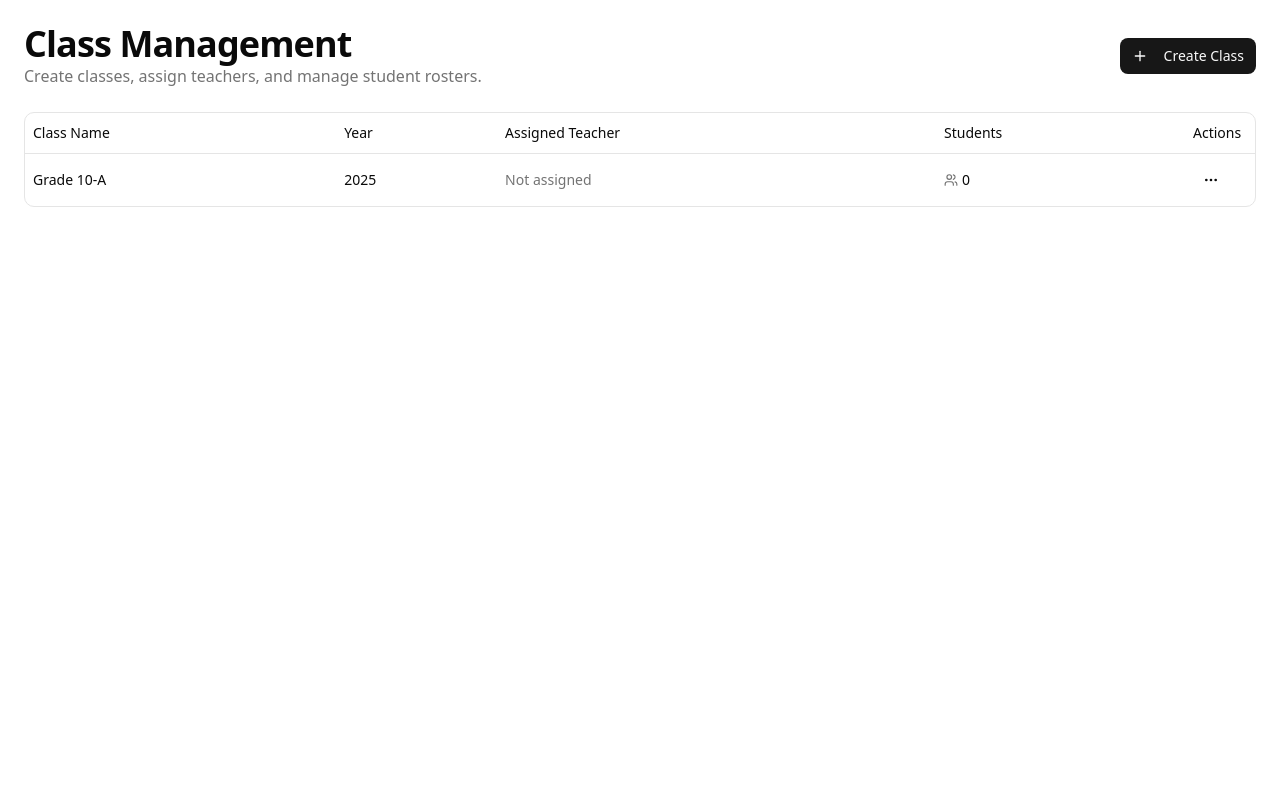
Subject Teachers modal — subjects fetch fails › shows an inline failure message while the assignments list still renders
The width and height of the screenshot is (1280, 800).
Expected: the text "Grade 10-A" is shown, x1=25 y1=153 x2=336 y2=206
Click the button named "open menu" at [1211, 180], box x1=1193 y1=162 x2=1229 y2=198
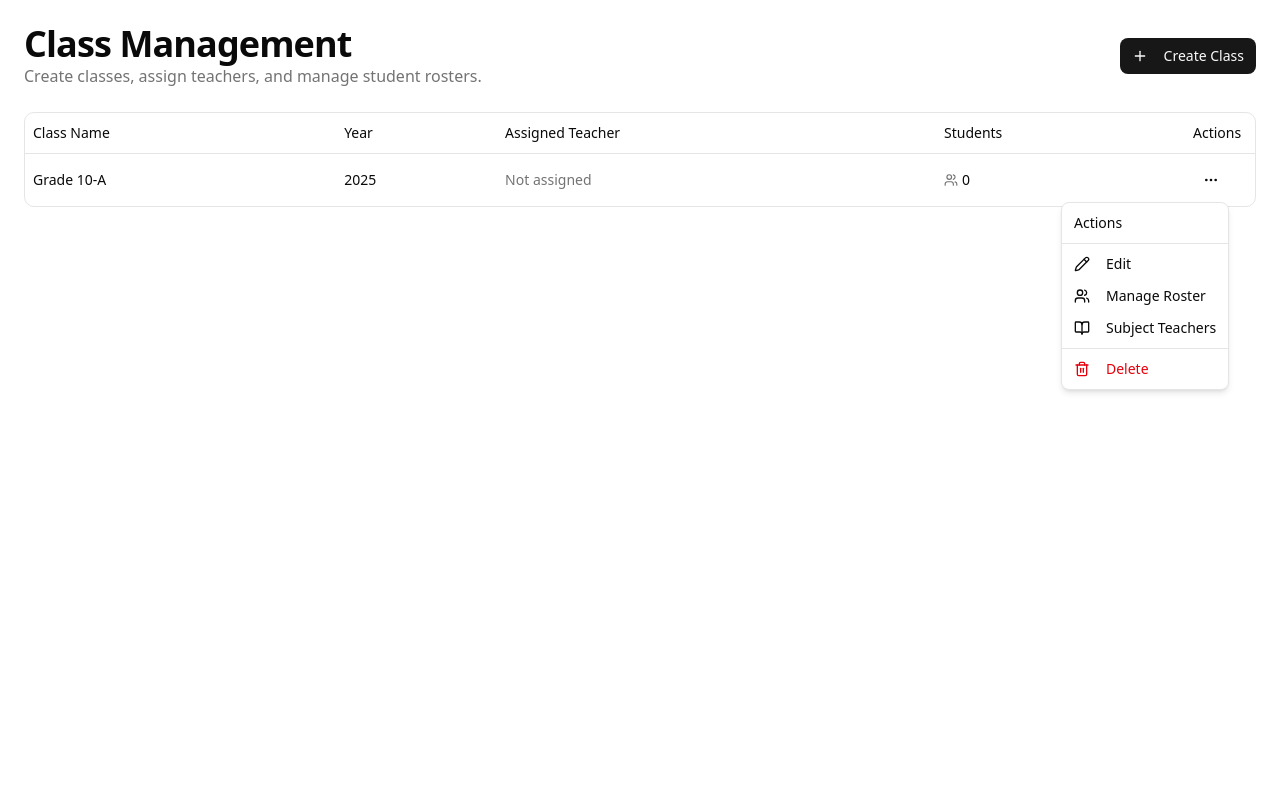
Click the menu item "Subject Teachers" at [1145, 328], box x1=1074 y1=318 x2=1216 y2=337
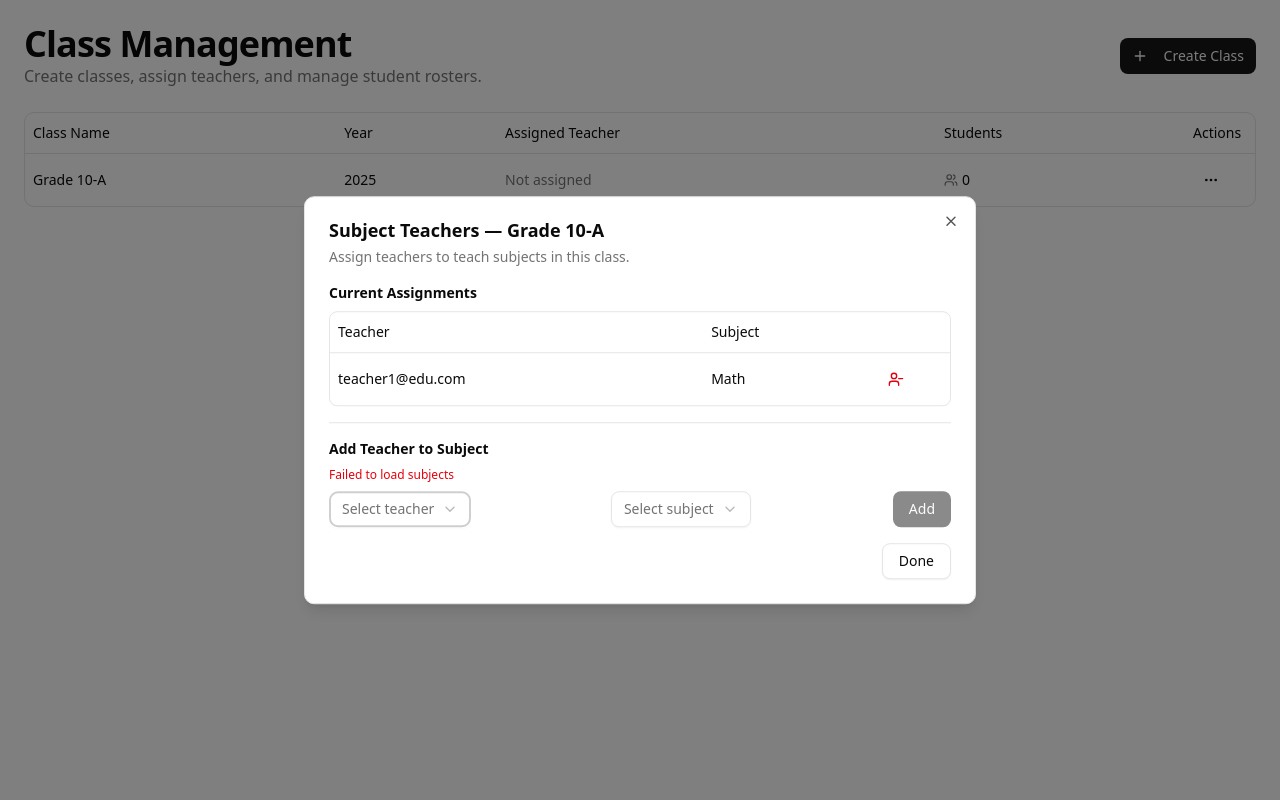
Expected: the heading "Subject Teachers — Grade 10-A" is shown, x1=329 y1=218 x2=604 y2=242
Expected: the text "Failed to load subjects" is shown, x1=329 y1=466 x2=454 y2=483
Expected: the text "teacher1@edu.com" is shown, x1=330 y1=352 x2=703 y2=405
